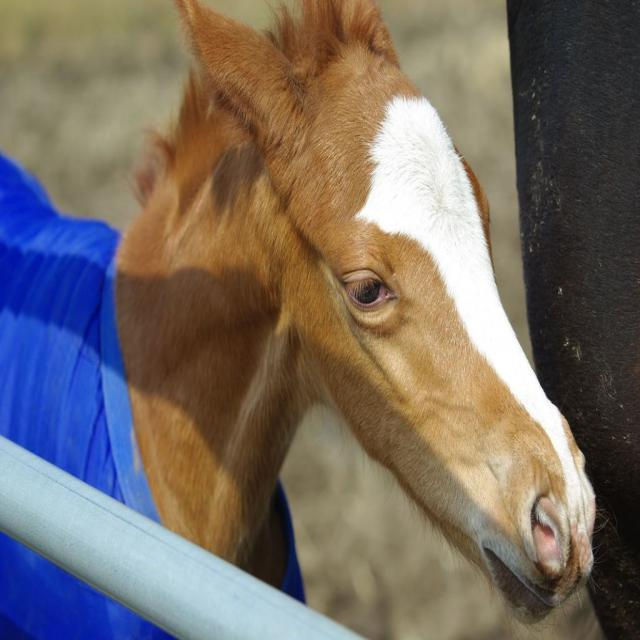Horse: (0, 0, 623, 640)
